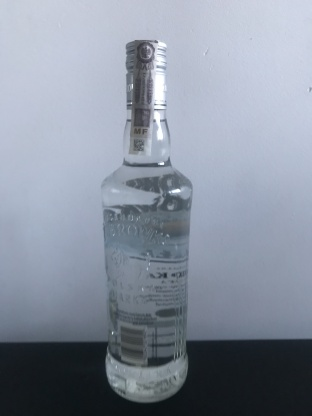nakretka: (122, 34, 169, 113)
